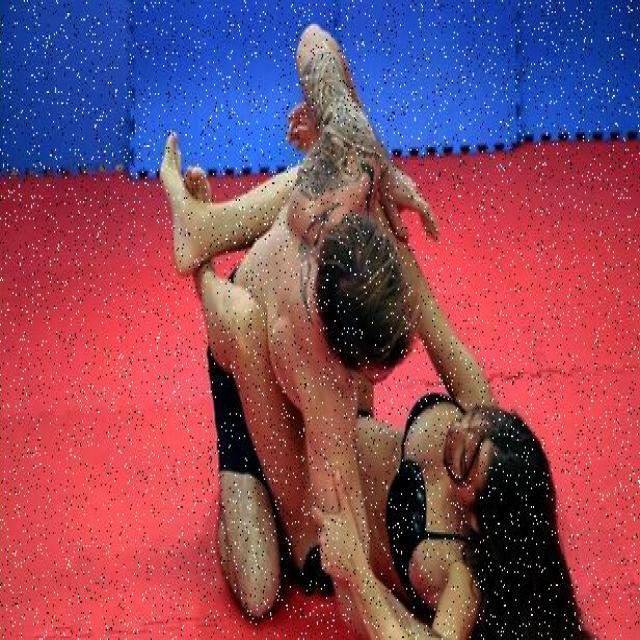fall: (158, 130, 610, 638)
